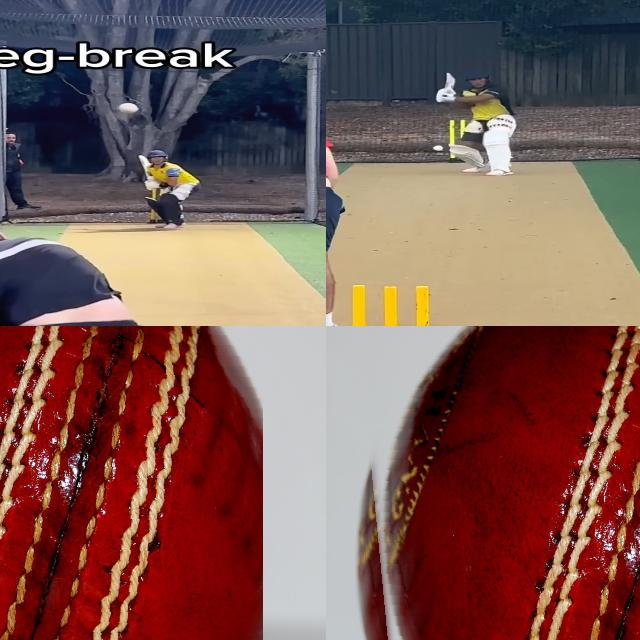Cricket ball: (351, 326, 640, 640), (0, 326, 263, 640), (117, 102, 139, 114), (431, 144, 445, 152)
Stumps: (339, 283, 453, 326)
